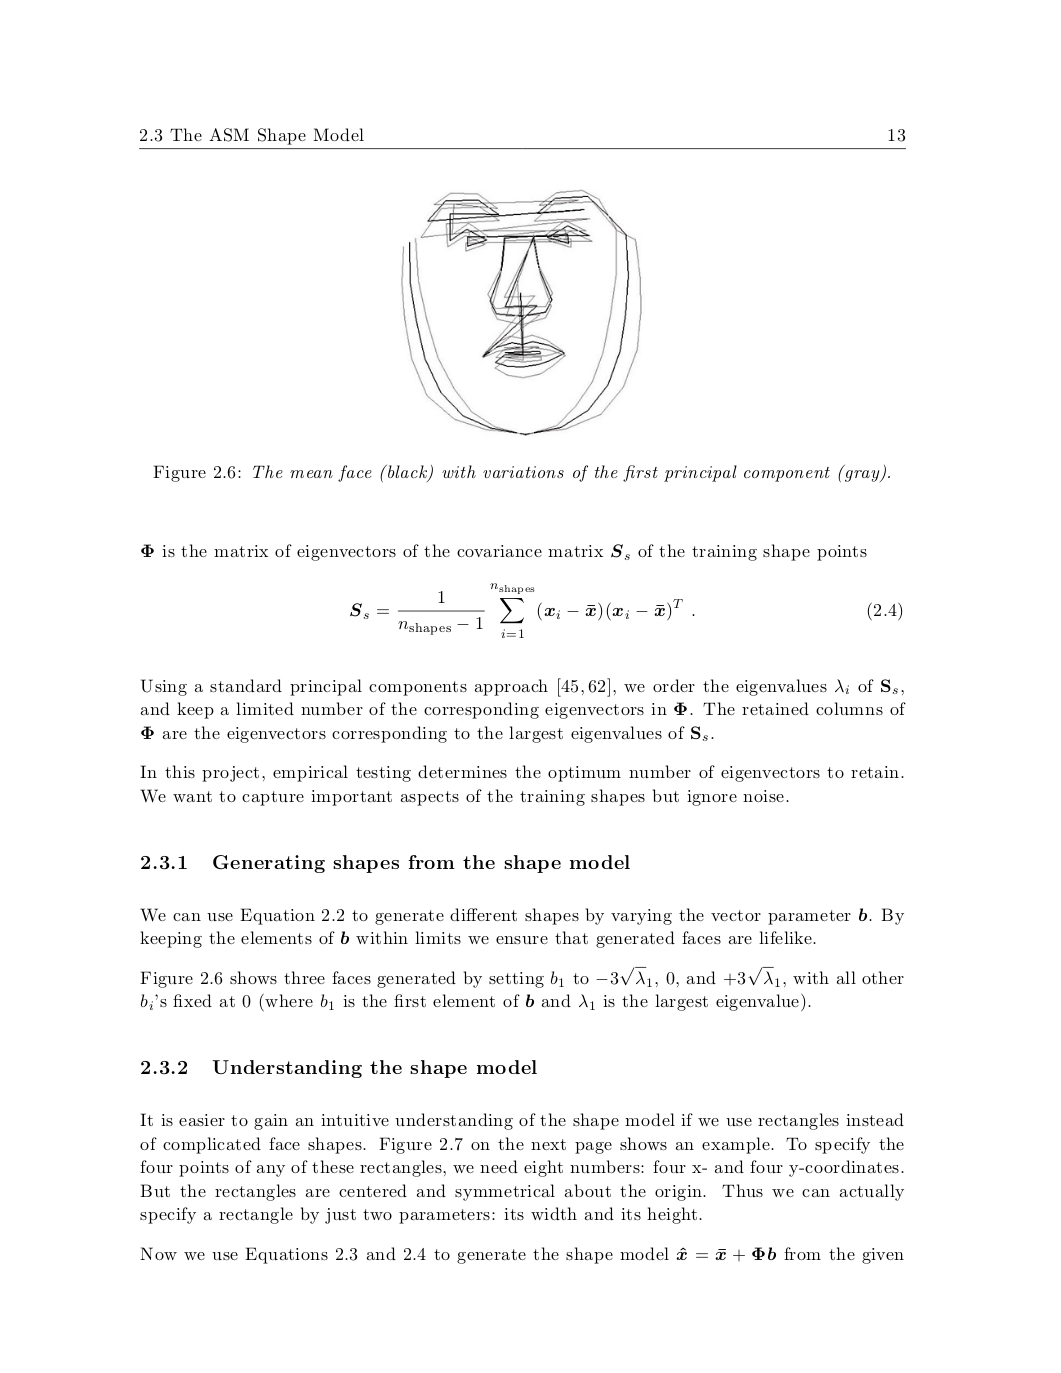figure: (401, 188, 641, 436)
formula: (350, 582, 902, 637)
